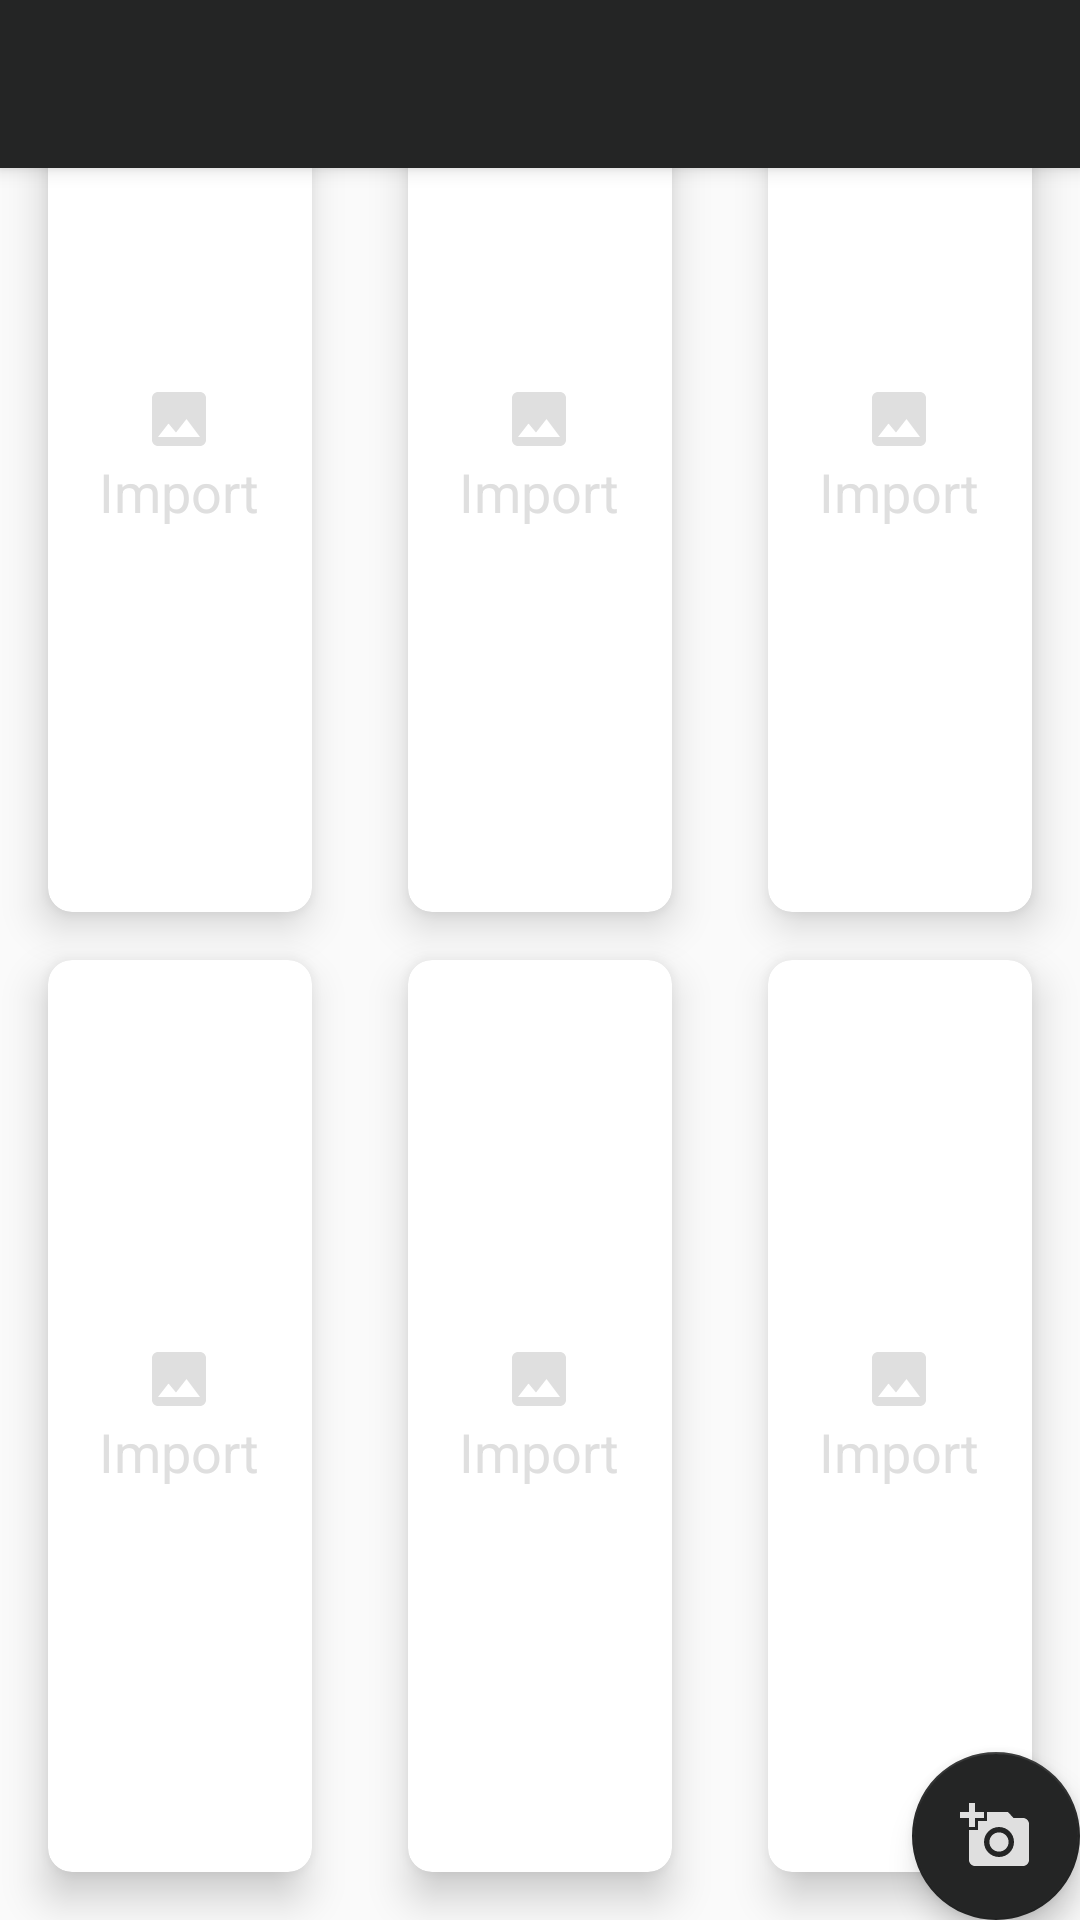

Where to tap for icons on this 1080w x 1920h app screen, as (x,y):
takeapic: (996,1836)
